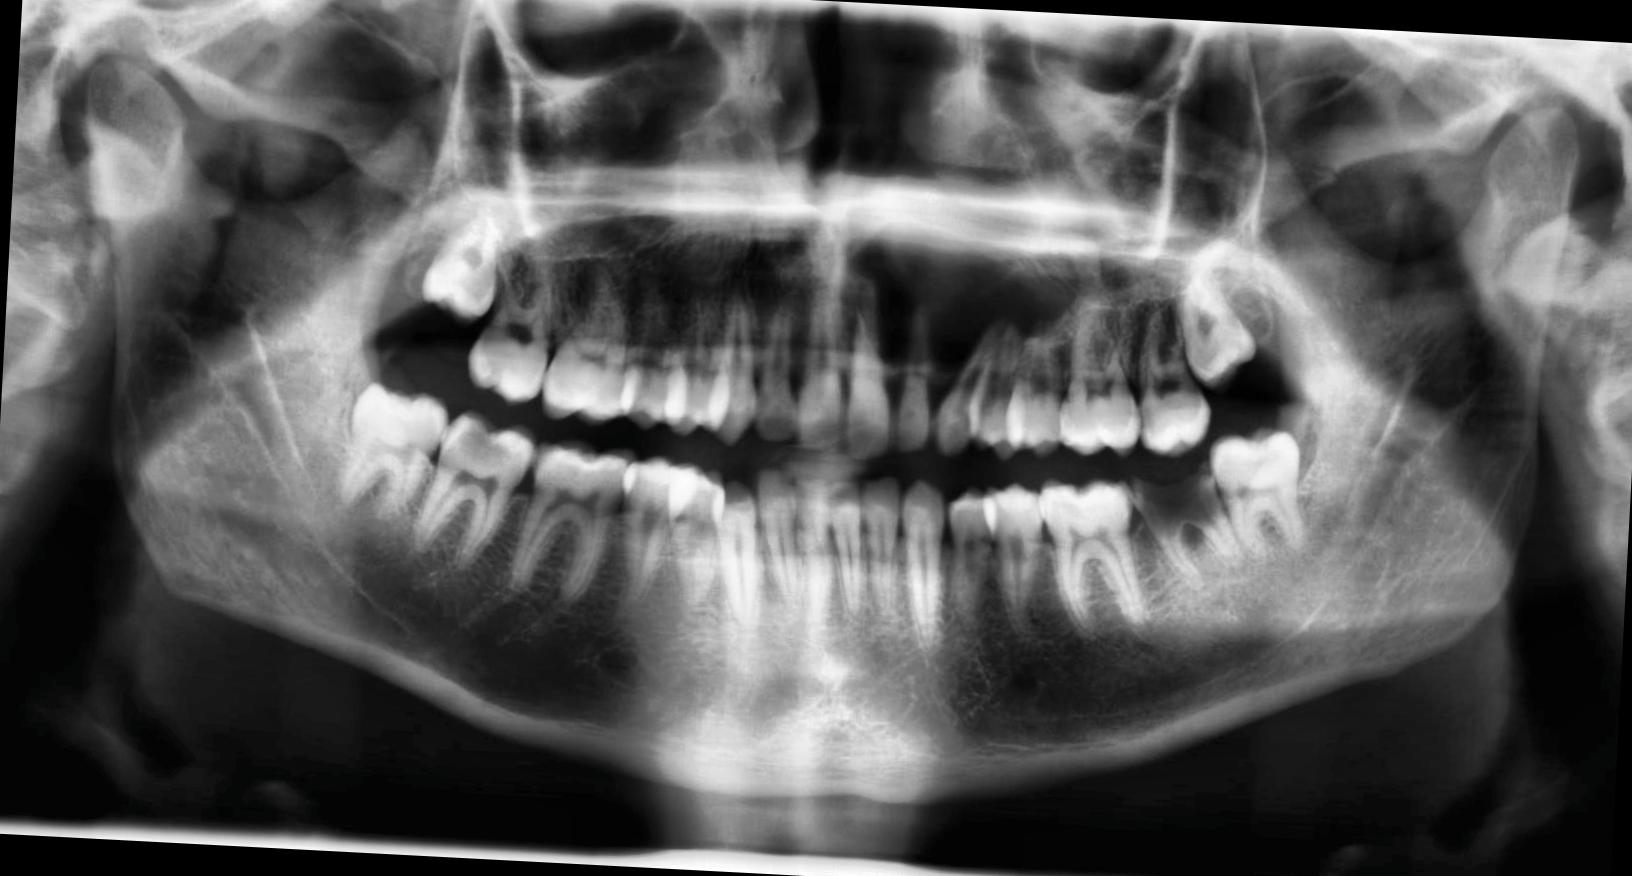radikuler: (834, 214, 1085, 380)
